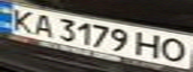1: (72, 19, 93, 47)
3: (54, 16, 78, 43)
7: (90, 22, 112, 50)
9: (109, 25, 133, 53)
A: (27, 11, 57, 38)
H: (133, 30, 166, 60)
K: (3, 7, 39, 34)
O: (157, 35, 190, 64)
